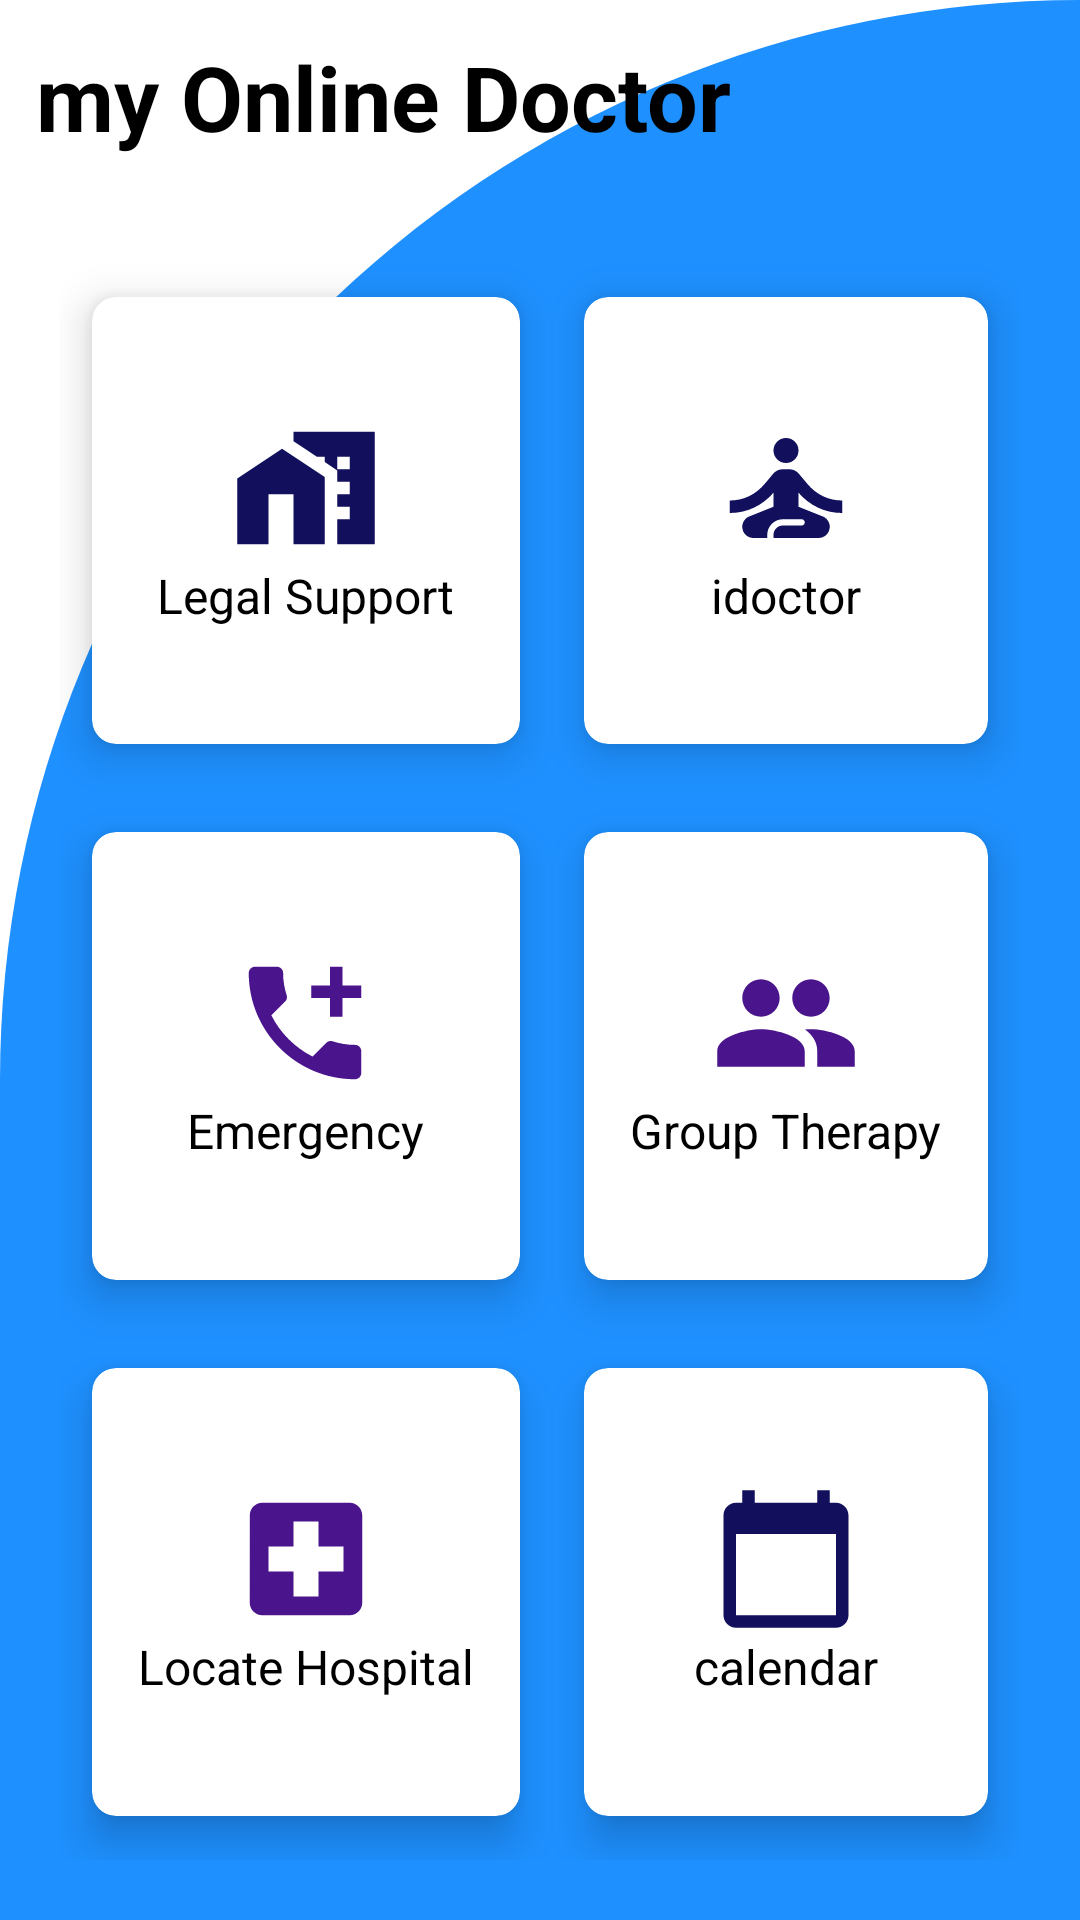

Icon bounding boxes for this 1080px×1920px phone screenshot, format region(x1, y1, x2, y2):
medication: region(249, 1502, 363, 1616)
